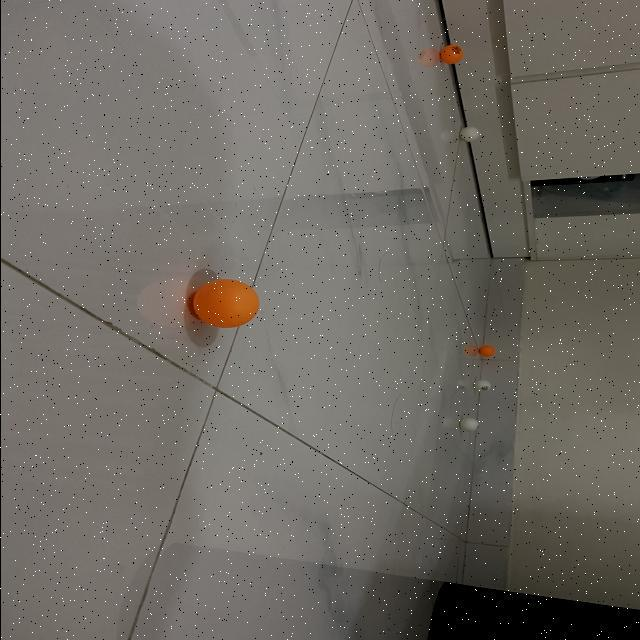ping-pong-ball: (190, 280, 258, 328), (439, 44, 465, 64), (457, 126, 479, 142), (458, 417, 479, 432), (477, 344, 495, 358), (472, 379, 490, 392)
